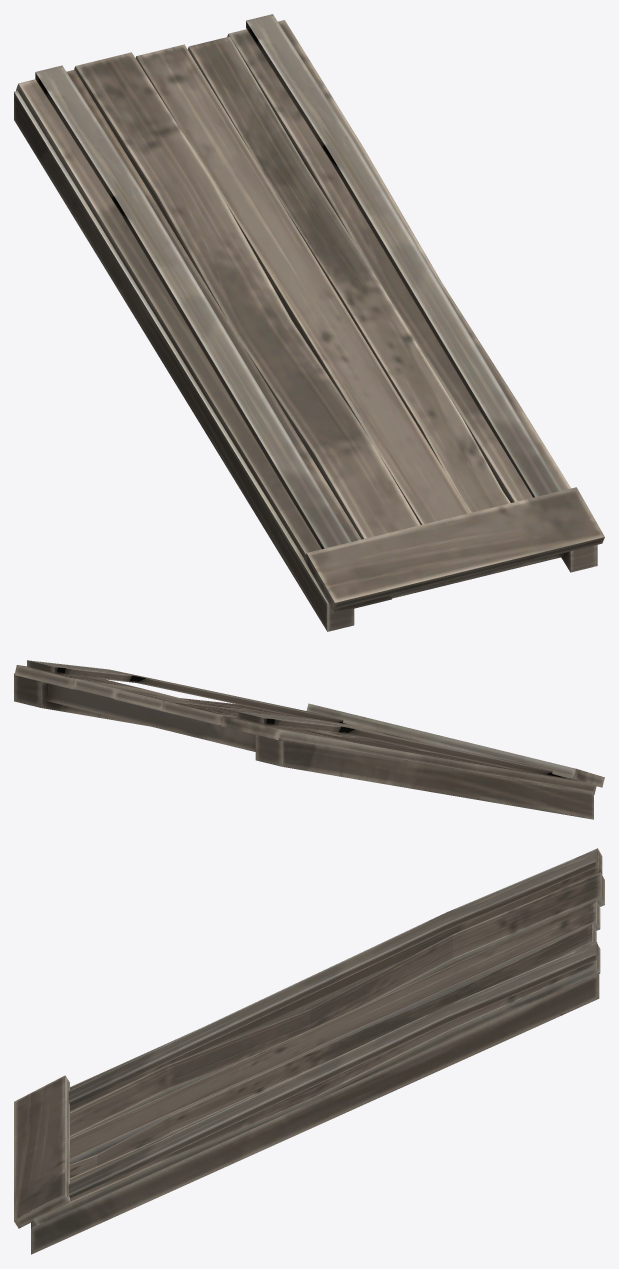
Rendered from Wood_Roof_1x2.glb.
3 renders of one model, top to bottom at view 1: azimuth 30°, elevation 25°; view 2: azimuth 150°, elevation 25°; view 3: azimuth 270°, elevation 25°, orthographic. The views are drawn at different scales.
Parts seen in each view (by area): view 1: Wood_Roof_1x2; view 2: Wood_Roof_1x2; view 3: Wood_Roof_1x2.
Part boxes in pixels (box(x1,y1,x2,y2)): Wood_Roof_1x2: box(14, 14, 604, 631); Wood_Roof_1x2: box(14, 660, 604, 819); Wood_Roof_1x2: box(14, 848, 604, 1254).
Size of what is drawn, in the model's own units: 1.01 by 1.15 by 2.09.
Materials: 1 (1 with a texture image).
